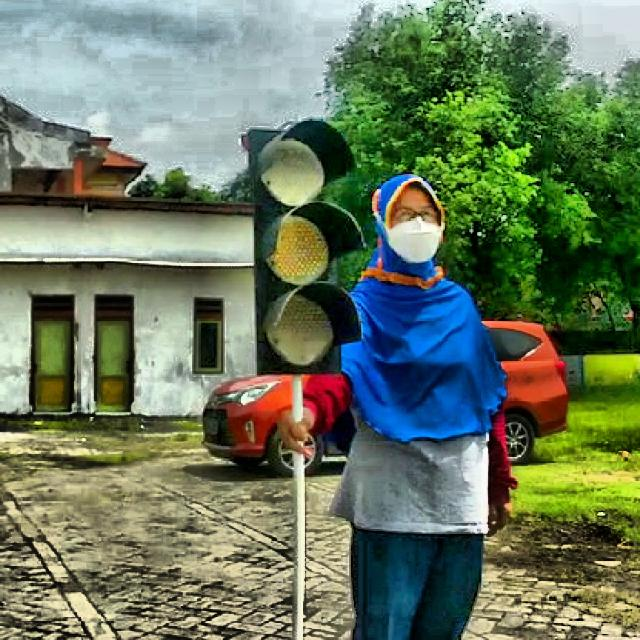yellow: (250, 126, 356, 372)
